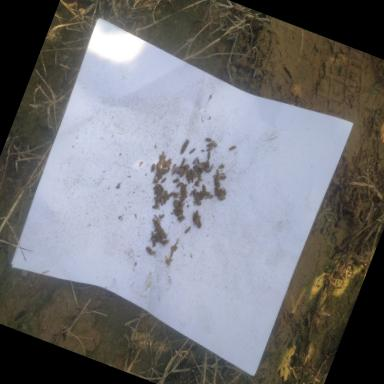pbw: (192, 164, 202, 174), (193, 214, 201, 226), (189, 146, 198, 156), (184, 224, 192, 235), (178, 201, 186, 212), (196, 219, 204, 230), (159, 154, 166, 166), (154, 161, 162, 171), (172, 198, 180, 208), (156, 154, 164, 163), (158, 197, 166, 206), (176, 208, 183, 218), (153, 182, 160, 192), (168, 190, 176, 198), (218, 188, 226, 196), (160, 230, 168, 238), (204, 160, 212, 168), (228, 144, 236, 152), (176, 214, 184, 222), (214, 176, 222, 184), (171, 176, 179, 184), (210, 140, 218, 148), (214, 168, 221, 177), (190, 212, 196, 222), (158, 228, 164, 238), (190, 174, 196, 184), (180, 157, 186, 167), (220, 192, 226, 202), (192, 155, 198, 165), (189, 168, 196, 176), (148, 249, 156, 256), (197, 162, 204, 170), (178, 215, 185, 223), (158, 166, 165, 174), (200, 184, 207, 192), (154, 218, 162, 225), (175, 181, 182, 189), (214, 188, 220, 197), (154, 201, 160, 210), (206, 151, 212, 160), (206, 142, 213, 149), (160, 238, 167, 245), (206, 193, 213, 200), (218, 163, 225, 170), (173, 192, 180, 199), (150, 230, 156, 238), (160, 176, 166, 184), (194, 210, 200, 218), (192, 192, 198, 200), (178, 195, 186, 201), (212, 174, 220, 180), (218, 192, 224, 200), (150, 164, 156, 172), (204, 136, 212, 142), (157, 184, 165, 190), (152, 177, 160, 183), (191, 188, 197, 196), (176, 166, 182, 174), (203, 161, 209, 169), (172, 164, 178, 172), (206, 146, 213, 152), (145, 246, 152, 252), (184, 164, 190, 171), (212, 186, 218, 193), (199, 190, 206, 196), (208, 164, 213, 172), (217, 188, 222, 196), (159, 232, 165, 238), (204, 167, 210, 173), (204, 190, 210, 196), (183, 162, 189, 168), (182, 170, 188, 176), (151, 218, 156, 225), (189, 190, 194, 197), (193, 173, 200, 178), (186, 170, 190, 178), (162, 190, 166, 198), (221, 196, 226, 202), (195, 194, 200, 200), (196, 191, 202, 196), (172, 211, 178, 216), (202, 162, 206, 168), (154, 232, 158, 238), (198, 168, 204, 172), (139, 162, 143, 168), (150, 237, 155, 241), (154, 236, 156, 240)
